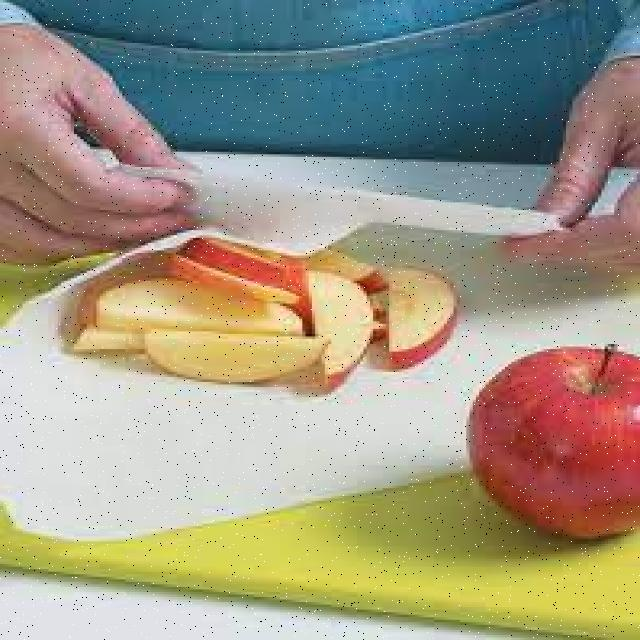Apple: (470, 343, 637, 534), (84, 280, 320, 328), (146, 337, 330, 389), (386, 266, 458, 368), (314, 270, 368, 392), (176, 255, 310, 288)
